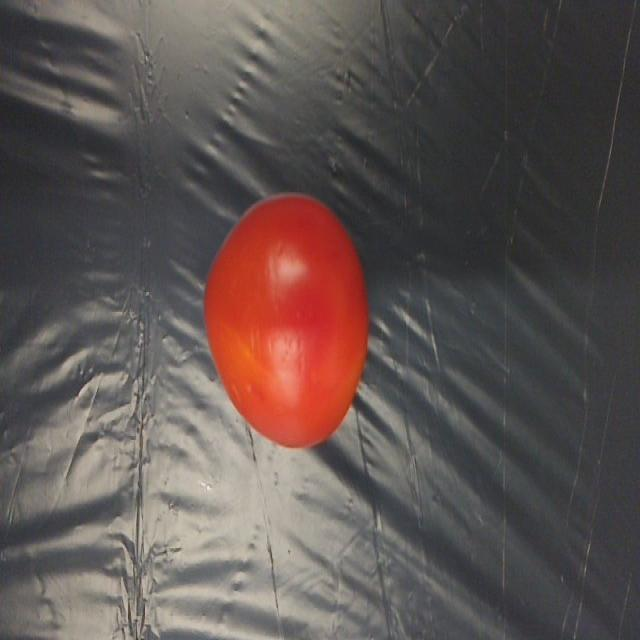kirmizi: (186, 177, 390, 474)
